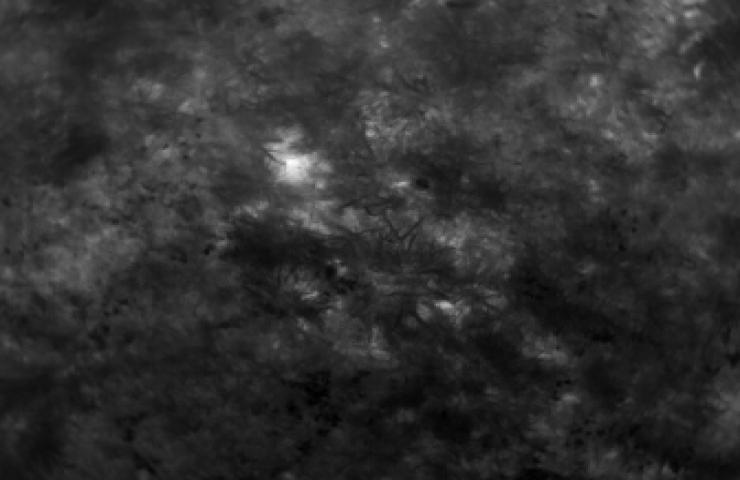landmines: (261, 131, 329, 191)
